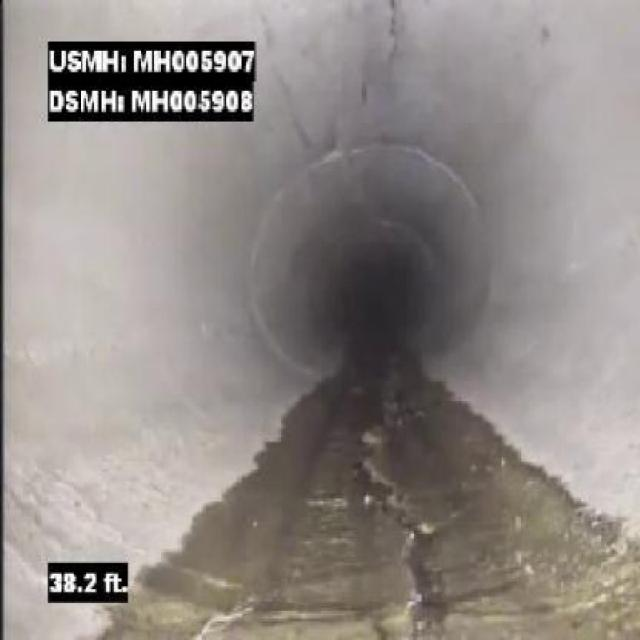Buckling: (366, 477, 449, 635)
Crack: (371, 3, 417, 94)
